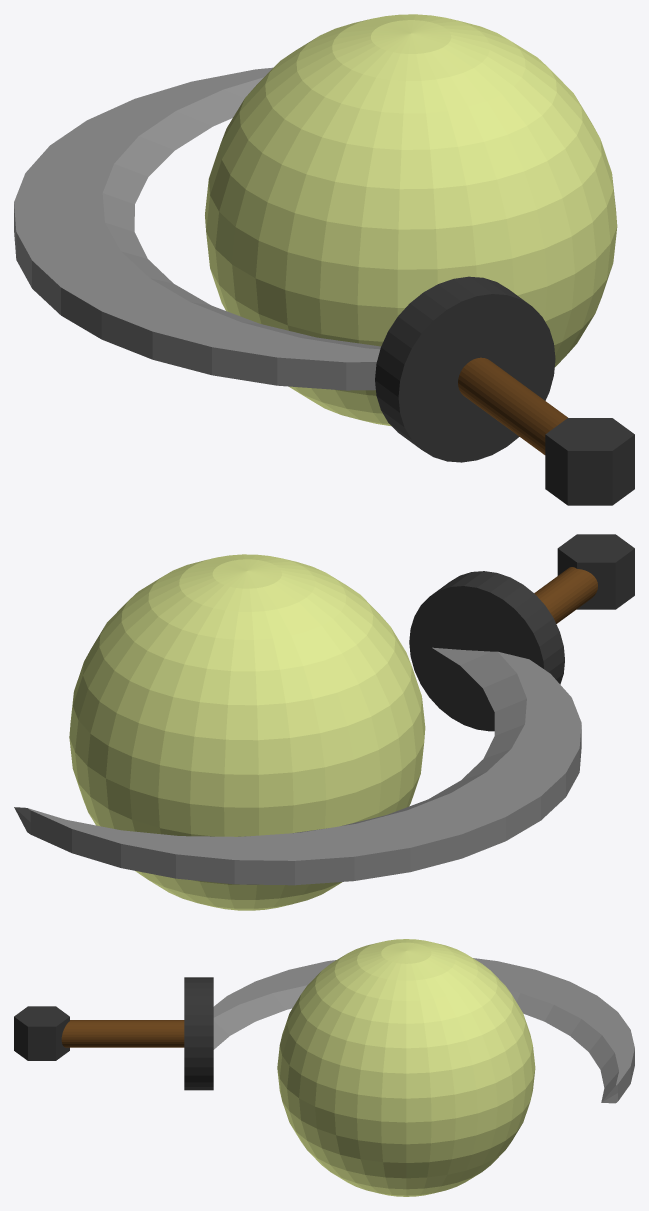
File: SickleIcon.fbx
3 views of the same model, one above another, from view 1: azimuth 30°, elevation 25°; view 2: azimuth 150°, elevation 25°; view 3: azimuth 270°, elevation 25° (orthographic). The views are drawn at different scales.
Parts seen in each view (by area): view 1: Sphere.001; view 2: Sphere.001; view 3: Sphere.001.
Boxes of the visible parts, left/top/right/bottom form: Sphere.001: left=14, top=14, right=634, bottom=505; Sphere.001: left=14, top=534, right=634, bottom=910; Sphere.001: left=14, top=939, right=634, bottom=1196.
Size of the model in its own units: 170 by 116 by 279.
